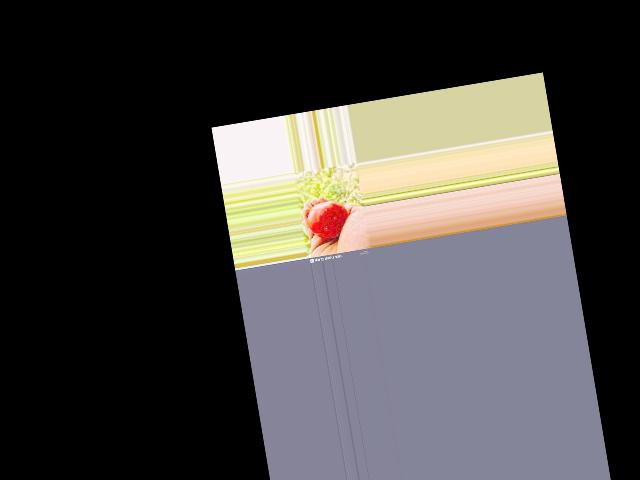tomato: (305, 198, 351, 241)
